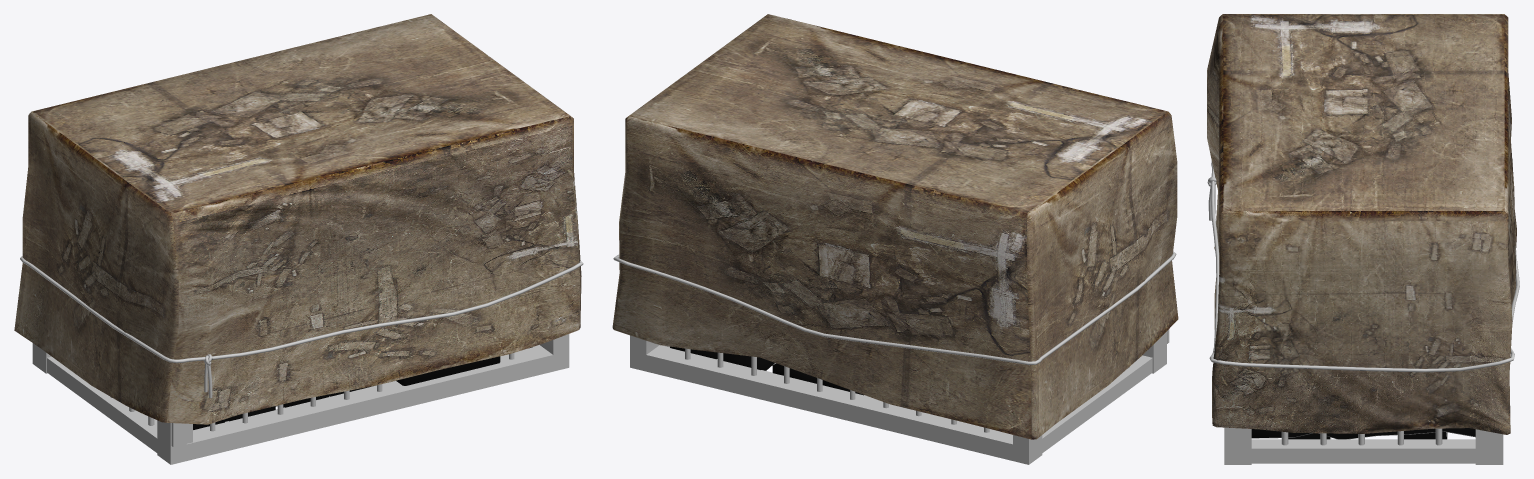
File: cage_04.DAE
The picture shows the model from 3 angles, left to right: view 1: azimuth 30°, elevation 25°; view 2: azimuth 150°, elevation 25°; view 3: azimuth 270°, elevation 25°; orthographic projection.
Visible parts, largest first — view 1: Box005, Object048, Line001, Box011, Object046, Object045; view 2: Box005, Object048, Line001, Object045; view 3: Box005, Object048, Line001, Object045.
Boxes of the visible parts, box(x1,y1,x2,y2) form: Box005: box(14, 14, 581, 424); Object048: box(32, 334, 569, 464); Line001: box(20, 256, 583, 398); Box011: box(396, 356, 500, 385); Object046: box(171, 397, 315, 446); Object045: box(193, 347, 532, 429); Box005: box(612, 14, 1178, 439); Object048: box(630, 331, 1166, 464); Line001: box(613, 251, 1176, 365); Object045: box(670, 346, 863, 395); Box005: box(1207, 14, 1516, 434); Object048: box(1224, 427, 1503, 464); Line001: box(1207, 159, 1519, 372); Object045: box(1251, 428, 1475, 439).
Size of the model in its own units: 2.69 by 1.51 by 1.68.
